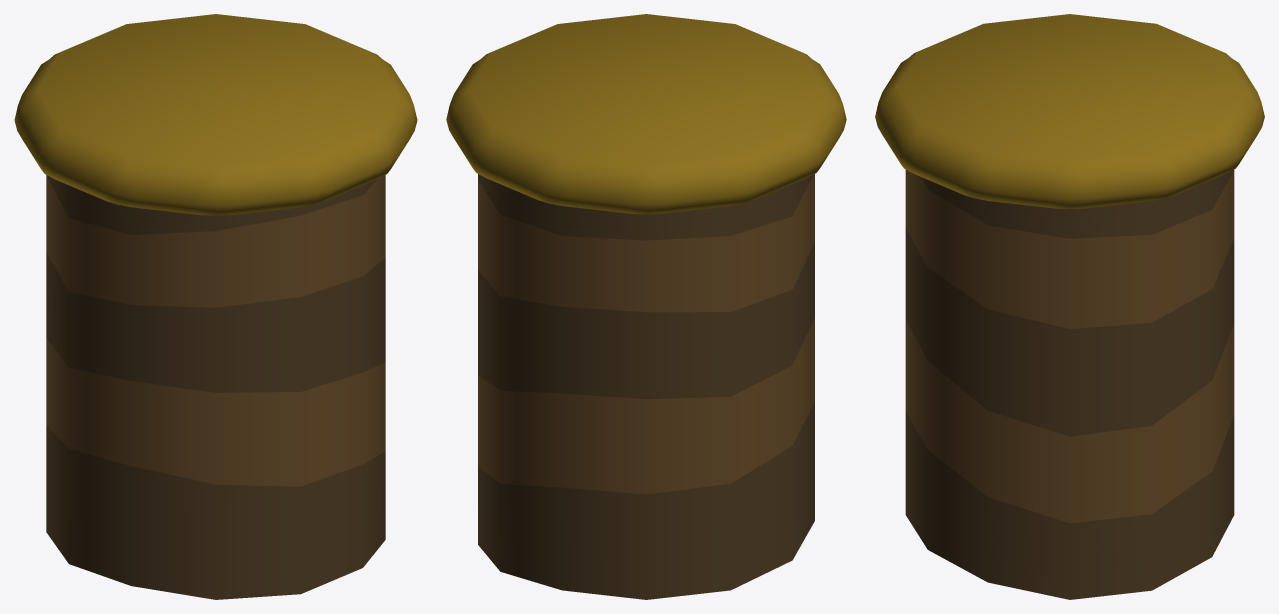
Rendered from Plateforme_Cercle_m.fbx.
3 renders of one model, left to right at view 1: azimuth 30°, elevation 25°; view 2: azimuth 150°, elevation 25°; view 3: azimuth 270°, elevation 25°, orthographic. The views are drawn at different scales.
Visible parts, largest first — view 1: Cylinder.002; view 2: Cylinder.002; view 3: Cylinder.002.
Part boxes in pixels (x1,y1,x2,y2): Cylinder.002: (14,14,417,599); Cylinder.002: (446,14,846,599); Cylinder.002: (875,14,1264,599).
Bounding box in the file's own units: 524 × 658 × 524.
